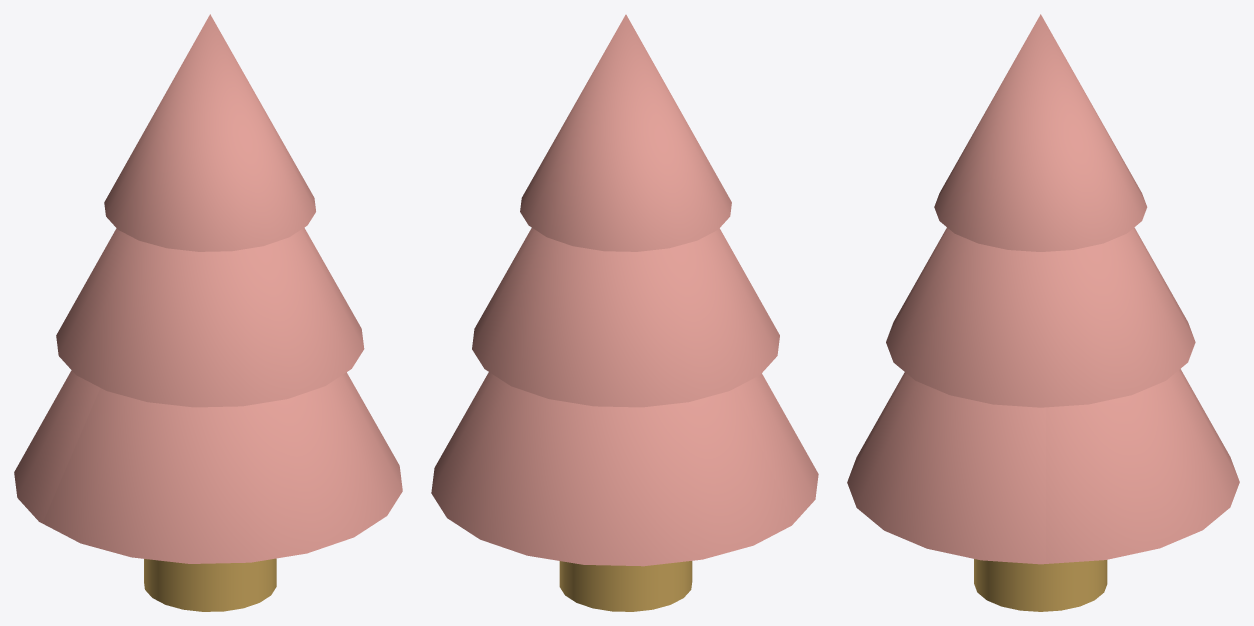
File: pinheiro_rosa.fbx
3 renders of one model, left to right at view 1: azimuth 30°, elevation 25°; view 2: azimuth 150°, elevation 25°; view 3: azimuth 270°, elevation 25°, orthographic.
Parts seen in each view (by area): view 1: arvore3_3, arvore3_2, arvore3_1, arvore3, arvore3_16; view 2: arvore3_16, arvore3_2, arvore3_1, arvore3, arvore3_3; view 3: arvore3_2, arvore3_1, arvore3_3, arvore3_16, arvore3.
Part boxes in pixels (x1,y1,x2,y2): arvore3_3: (42, 372, 402, 563); arvore3_2: (56, 227, 364, 407); arvore3_1: (104, 14, 315, 251); arvore3: (144, 558, 276, 611); arvore3_16: (14, 370, 100, 523); arvore3_16: (431, 372, 793, 566); arvore3_2: (472, 228, 779, 407); arvore3_1: (520, 14, 731, 251); arvore3: (559, 561, 692, 611); arvore3_3: (736, 373, 818, 523); arvore3_2: (886, 227, 1195, 407); arvore3_1: (934, 14, 1147, 251); arvore3_3: (847, 372, 1045, 564); arvore3_16: (1046, 369, 1239, 563); arvore3: (974, 559, 1107, 611).
Size of the model in its own units: 1.96 by 3.18 by 1.99.
